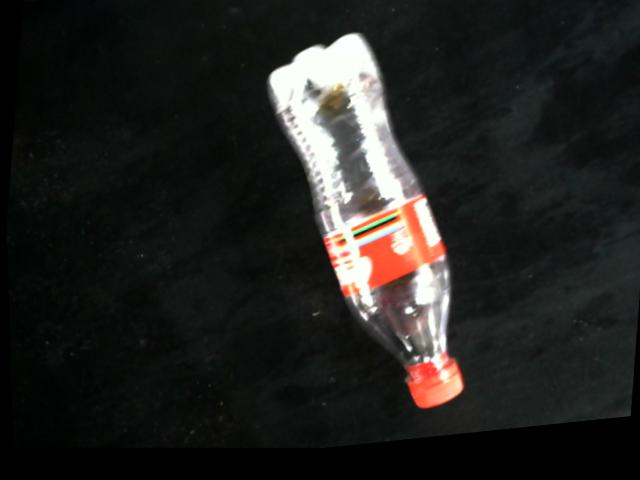bottle: (264, 40, 463, 417)
